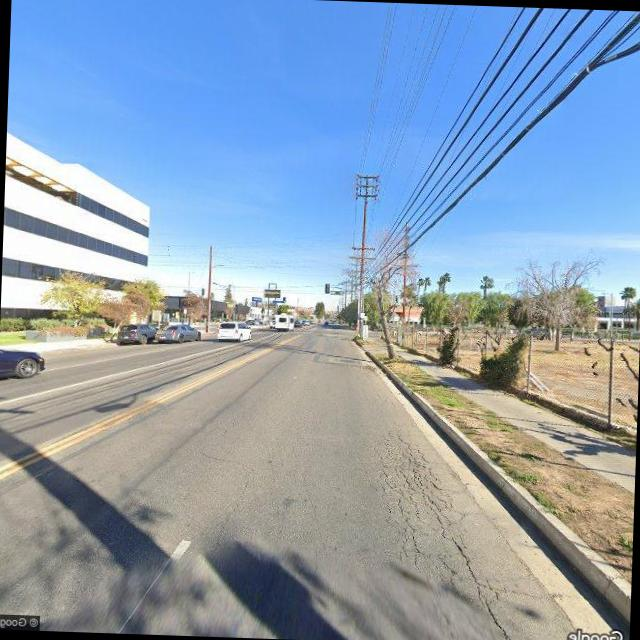crack: (362, 432, 475, 574)
pothole: (449, 534, 521, 640)
